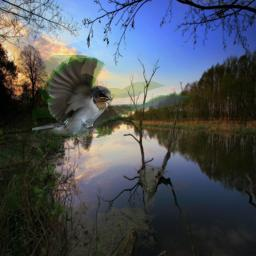Swallow: (32, 55, 189, 138)
